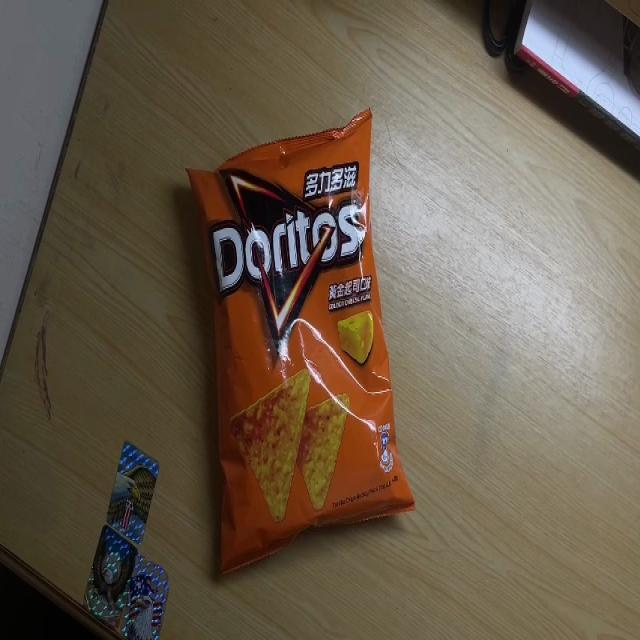Doritos: (188, 104, 416, 574)
